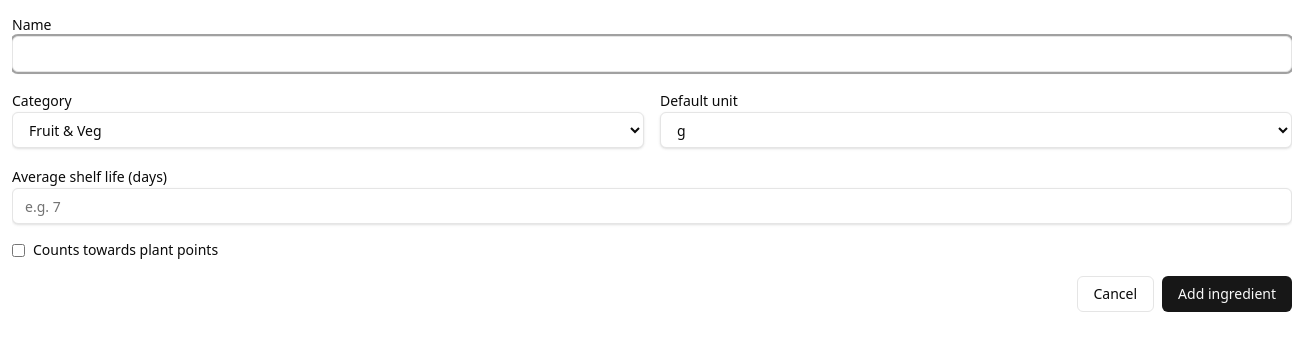
it: IngredientForm › rejects empty name on submit
Click the button "Add ingredient": point(1227, 294) [1162,276,1292,312]
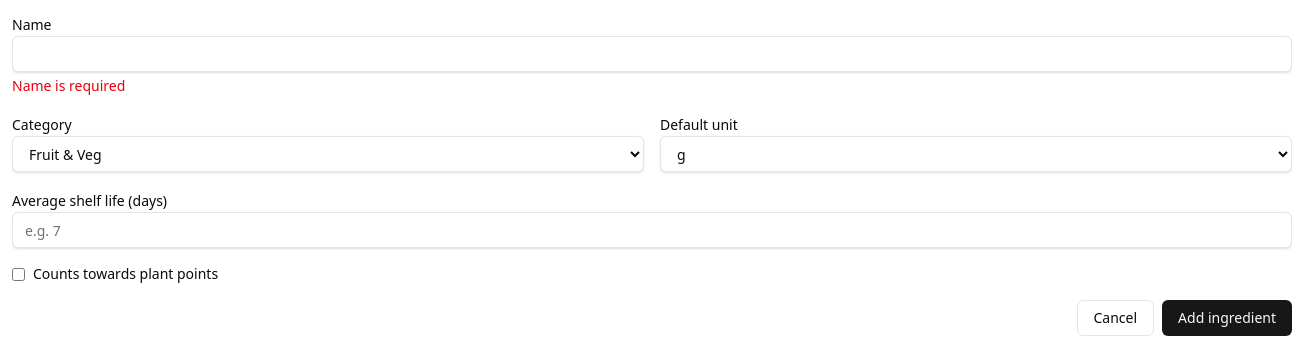
Now the message reads "Name is required", box [12,76,125,95]
